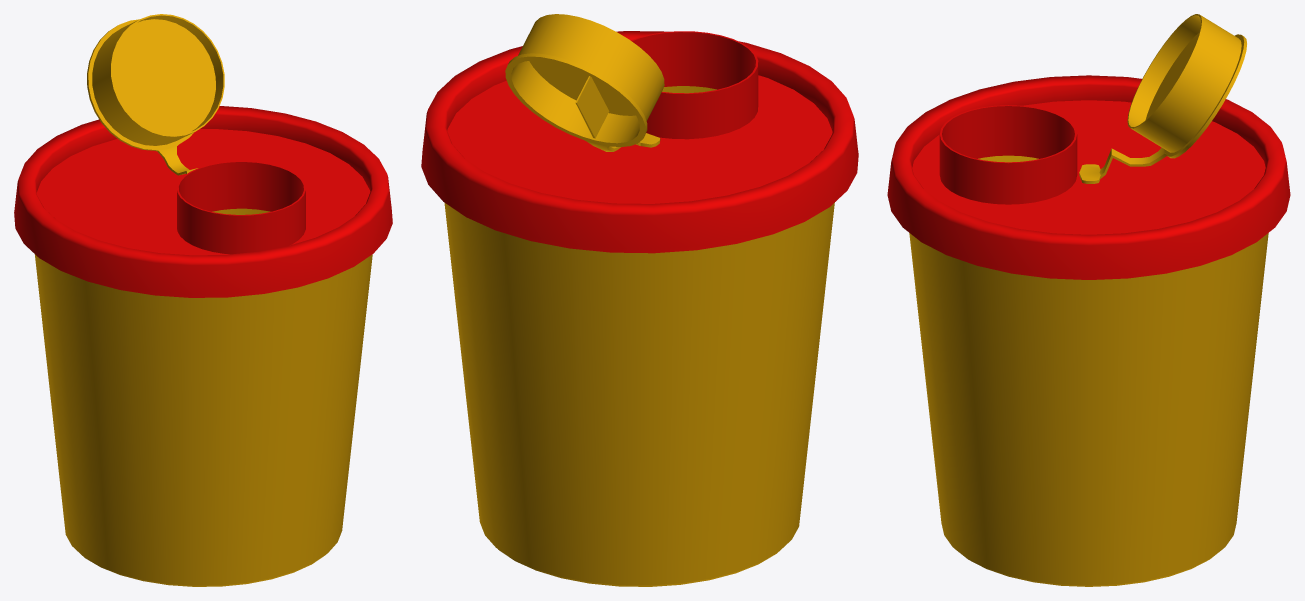
File: Abwurfbehaelter_lod0.fbx
3 renders of one model, left to right at view 1: azimuth 30°, elevation 25°; view 2: azimuth 150°, elevation 25°; view 3: azimuth 270°, elevation 25°, orthographic. The views are drawn at different scales.
Parts seen in each view (by area): view 1: Cup, Lid; view 2: Cup, Lid; view 3: Cup, Lid.
Boxes of the visible parts, bbox=[...] form: Cup: bbox=[14, 106, 392, 586]; Lid: bbox=[87, 14, 224, 175]; Cup: bbox=[421, 31, 858, 586]; Lid: bbox=[505, 14, 664, 151]; Cup: bbox=[887, 75, 1290, 586]; Lid: bbox=[1111, 14, 1246, 166].
Size of the model in its own units: 15.02 by 20.75 by 15.02.
